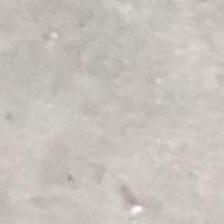Non_Crack: (40, 47, 218, 182)
